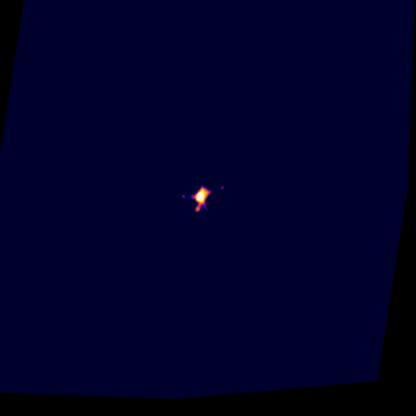drone: (179, 182, 225, 219)
